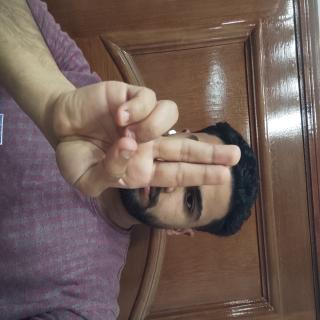TA: (54, 101, 152, 320)
